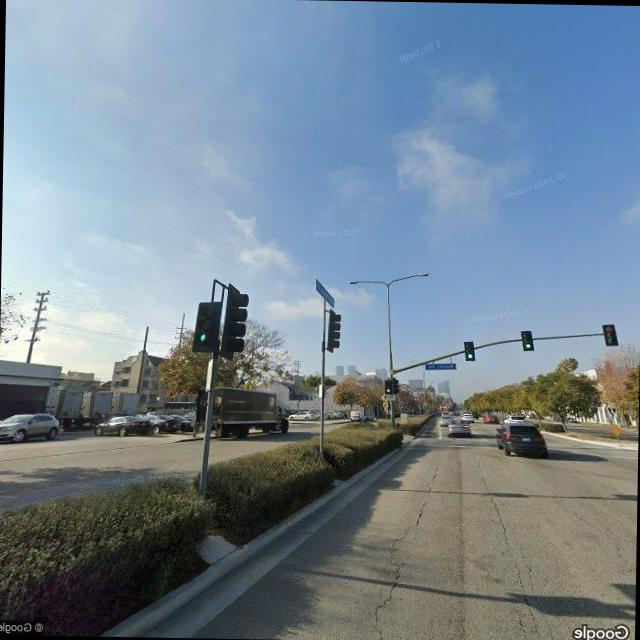crack: (473, 468, 556, 640), (363, 458, 439, 640)
